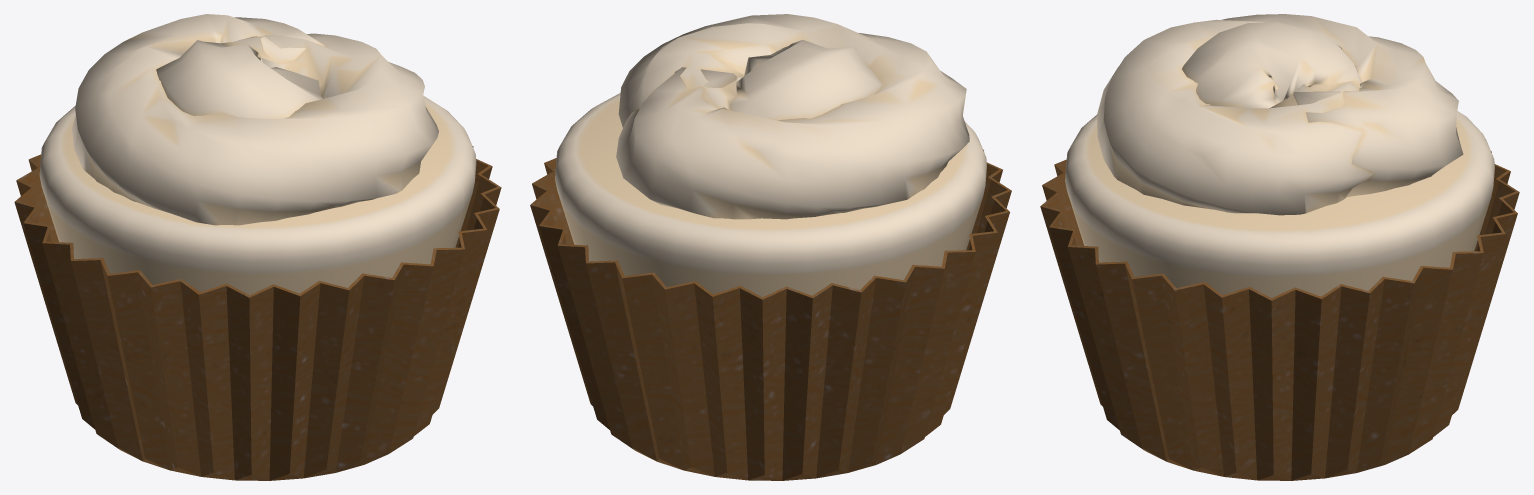
File: SM_Cupcake.fbx
3 renders of one model, left to right at view 1: azimuth 30°, elevation 25°; view 2: azimuth 150°, elevation 25°; view 3: azimuth 270°, elevation 25°, orthographic.
Parts seen in each view (by area): view 1: SM_Cupcake_LOD0; view 2: SM_Cupcake_LOD0; view 3: SM_Cupcake_LOD0.
Part boxes in pixels (x1,y1,x2,y2): SM_Cupcake_LOD0: (14, 14, 501, 480); SM_Cupcake_LOD0: (530, 14, 1011, 480); SM_Cupcake_LOD0: (1040, 14, 1519, 480).
Size of the model in its own units: 35.13 by 35.07 by 29.36.
Materials: 1 (1 with a texture image).
